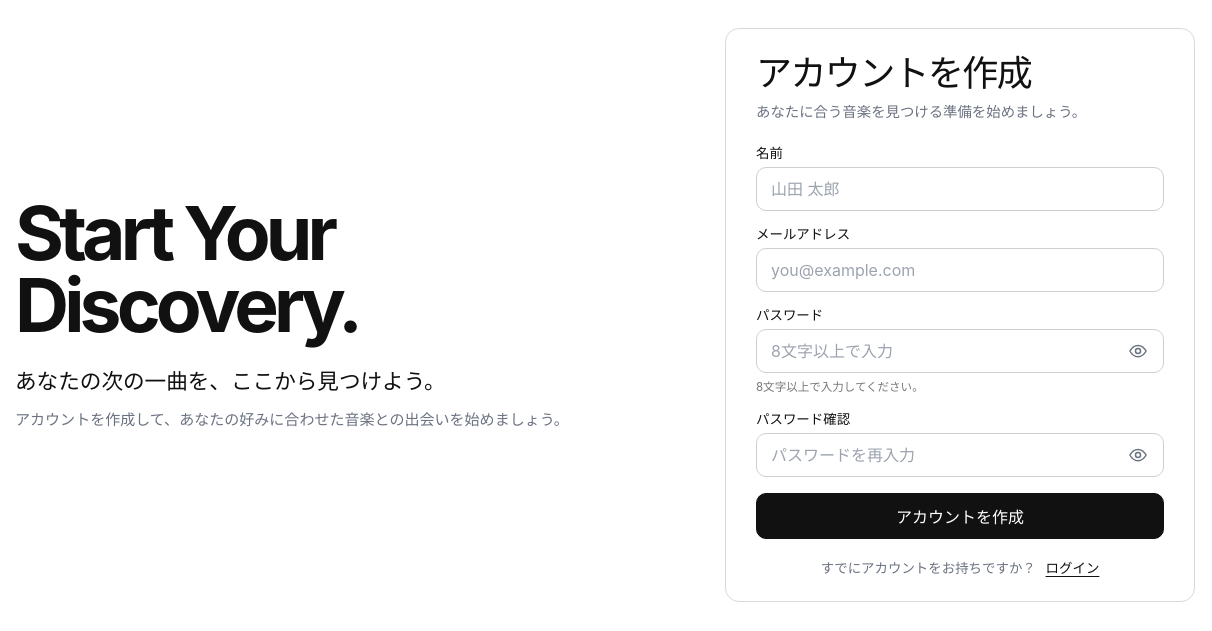
Test: SignupPage › shows an error when the password is too short
The width and height of the screenshot is (1212, 631).
In the field labelled "名前": (960, 189) [756, 167, 1164, 211], type "Taro"
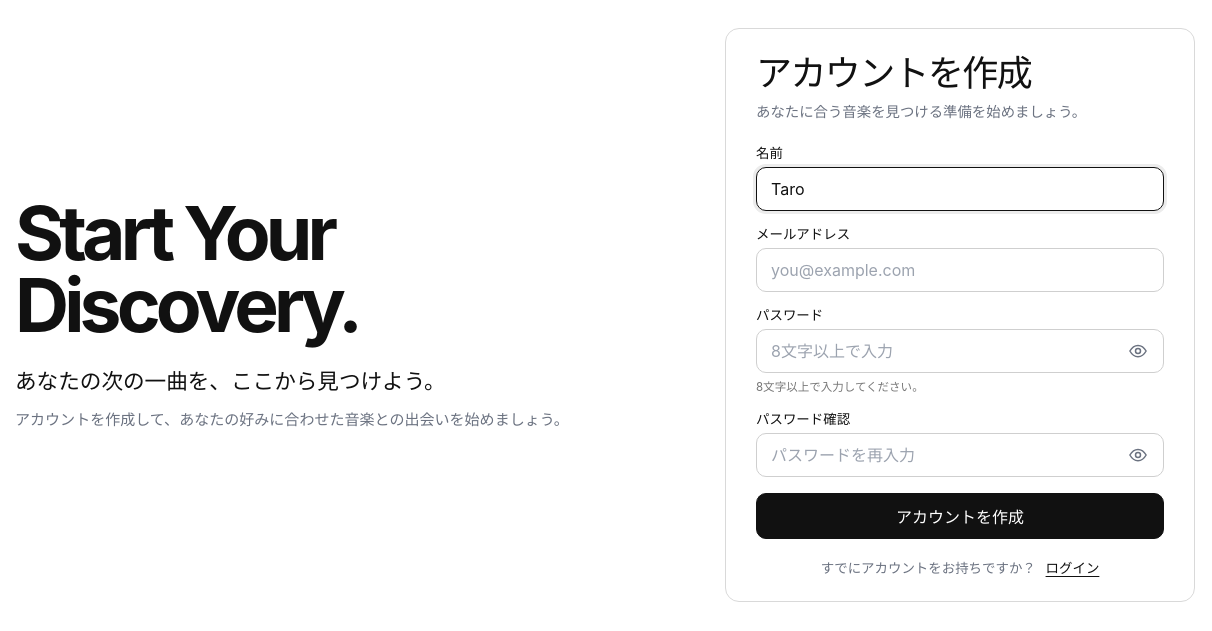
In the field labelled "メールアドレス": (960, 270) [756, 248, 1164, 292], type "taro@example.com"
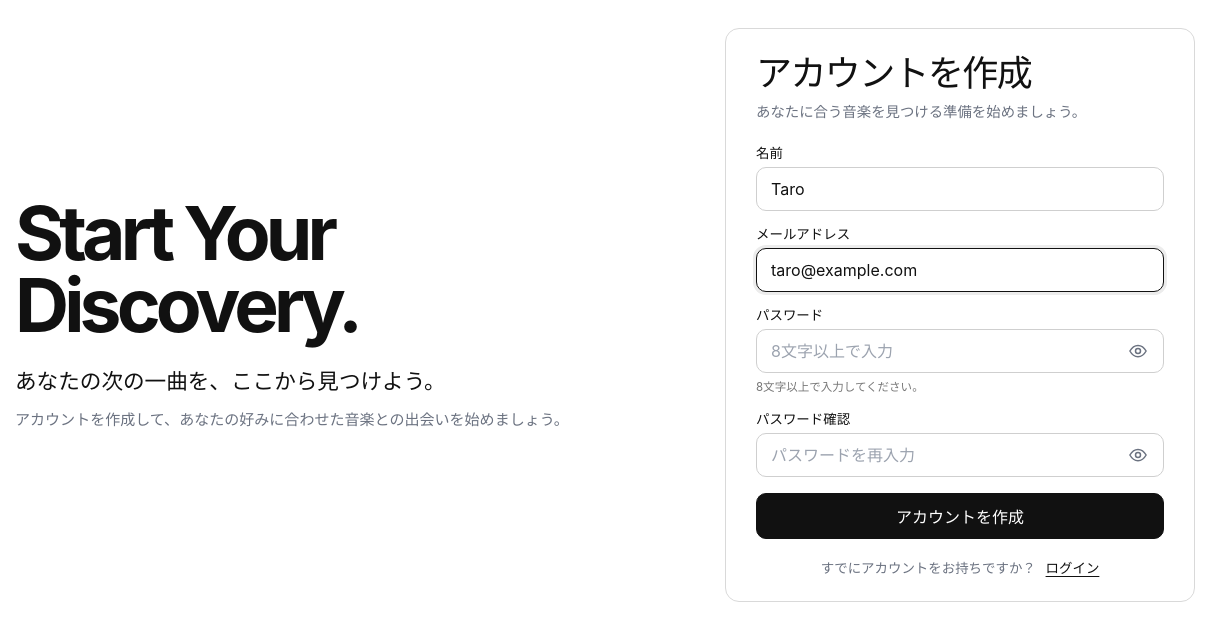
In the password field labelled "パスワード": (960, 351) [756, 329, 1164, 373], type "1234567"
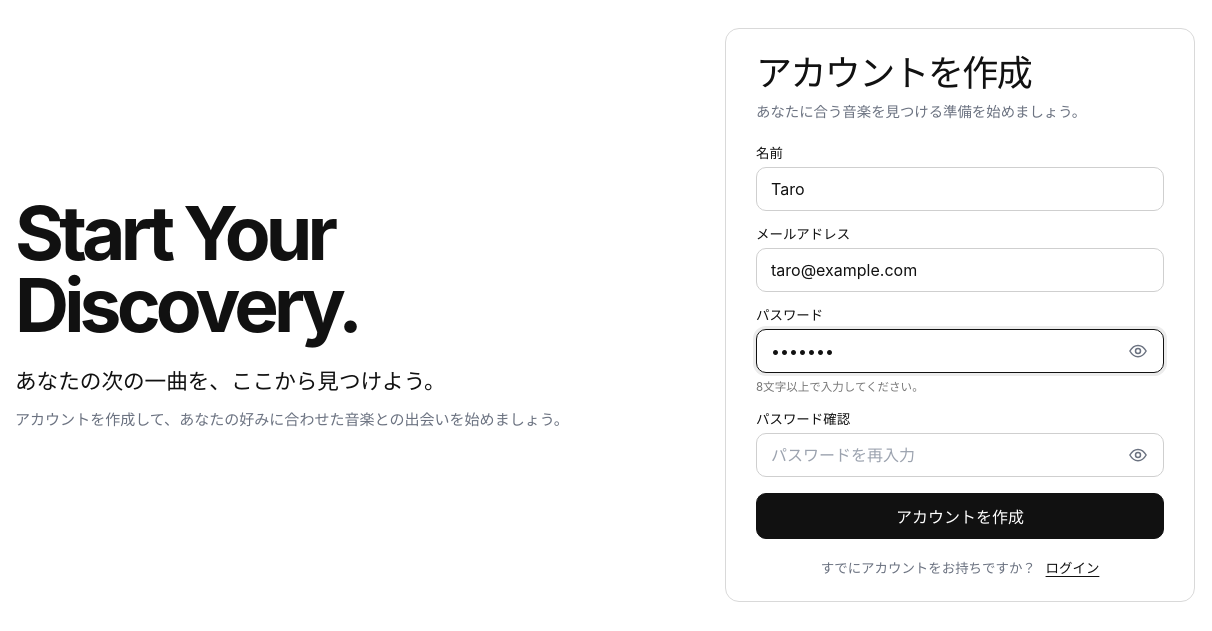
In the password field labelled "パスワード確認": (960, 455) [756, 433, 1164, 477], type "1234567"
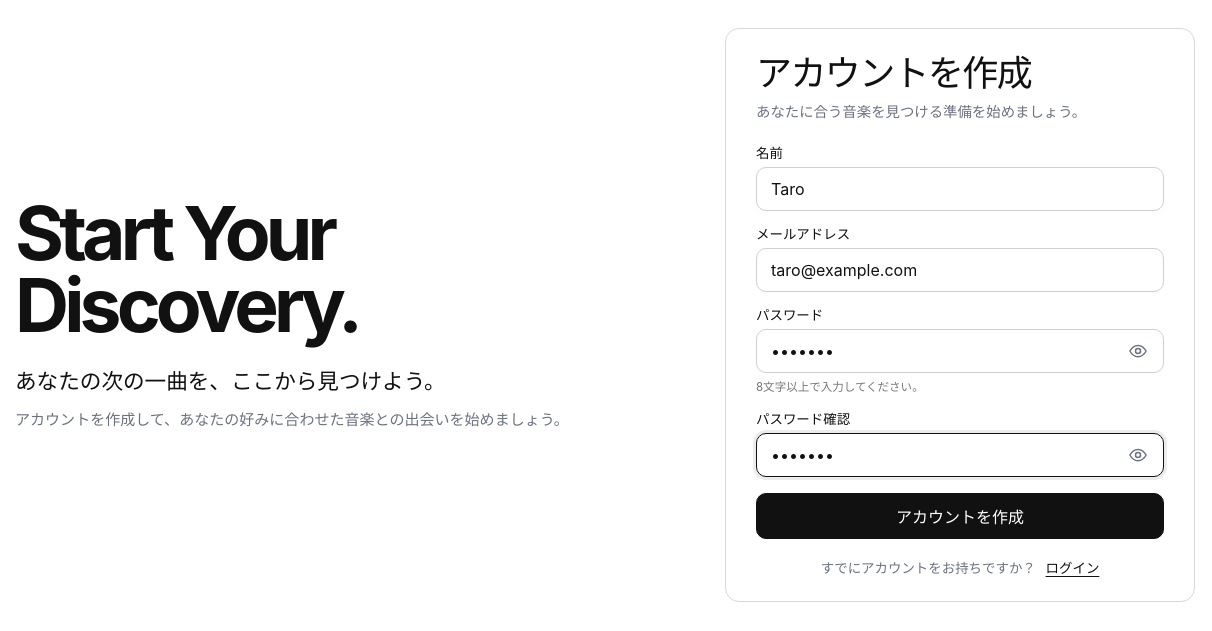
Click the button "アカウントを作成": click(960, 516) [756, 493, 1164, 539]
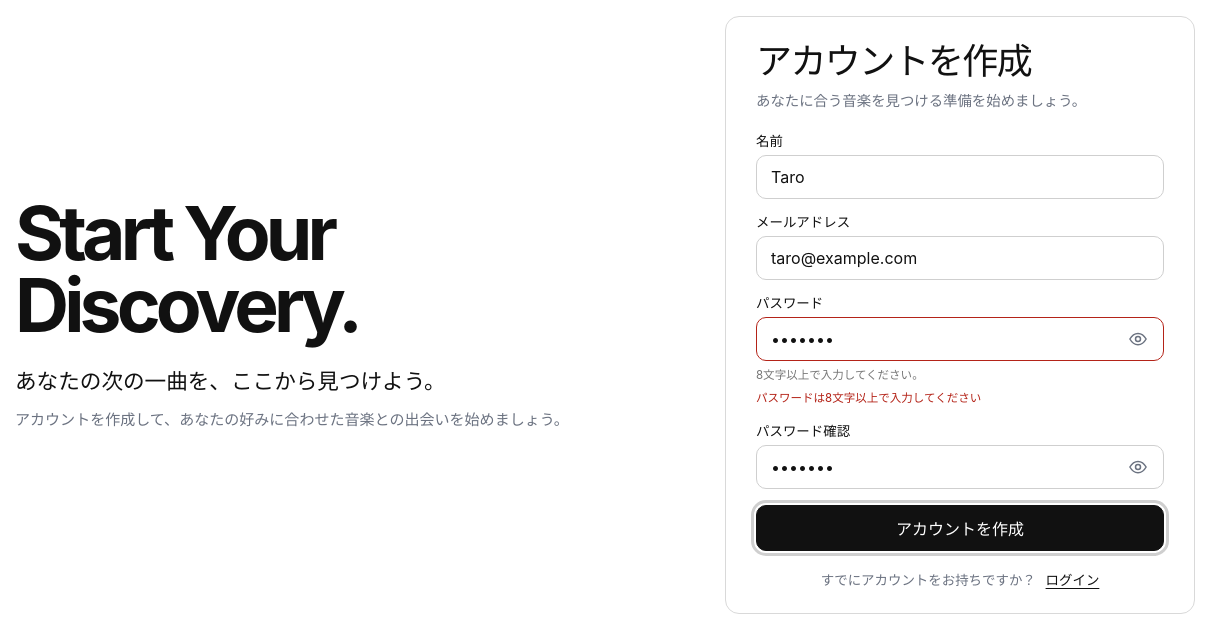
Expected: the text "パスワードは8文字以上で入力してください" is shown, [756, 391, 981, 405]
